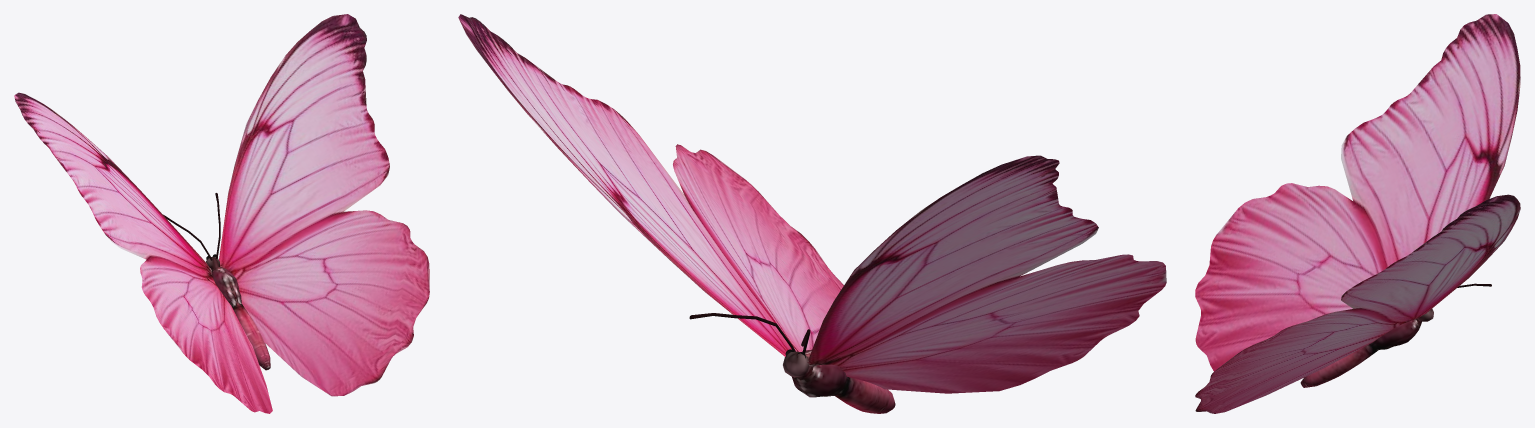
File: butterfly5.glb
3 renders of one model, left to right at view 1: azimuth 30°, elevation 25°; view 2: azimuth 150°, elevation 25°; view 3: azimuth 270°, elevation 25°, orthographic. The views are drawn at different scales.
Visible parts, largest first — view 1: Circle.002_2, Circle.001_1, Circle_0; view 2: Circle.001_1, Circle.002_2, Circle_0; view 3: Circle.001_1, Circle.002_2, Circle_0.
Part boxes in pixels (x1,y1,x2,y2): Circle.002_2: (219,14,429,396); Circle.001_1: (14,92,272,413); Circle_0: (163,193,270,370); Circle.001_1: (807,155,1166,393); Circle.002_2: (458,14,843,356); Circle_0: (689,313,895,413); Circle.001_1: (1195,14,1520,371); Circle.002_2: (1195,194,1520,413); Circle_0: (1300,283,1491,387).
Bounding box in the file's own units: 0.1513 × 0.1099 × 0.1114.
Materials: 2 (1 with a texture image).
